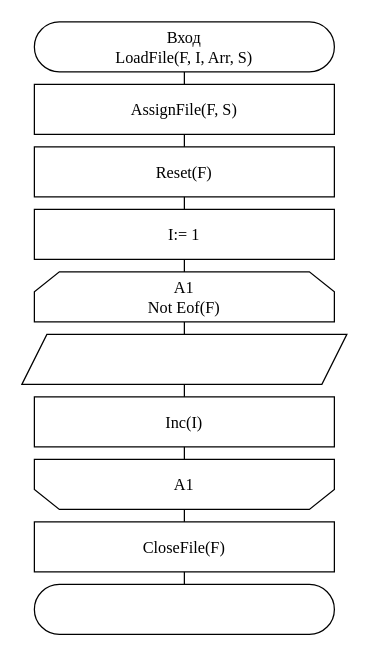
This 369x656 diagram has some shape labels left out. Here are the shapes that lost their labels. From the top down, the centre of each, then its label:
At point (184, 358): "ReadLn(F, Keys[I])".
At point (183, 608): "Выход LoadFile(F, I, Arr, S)".
